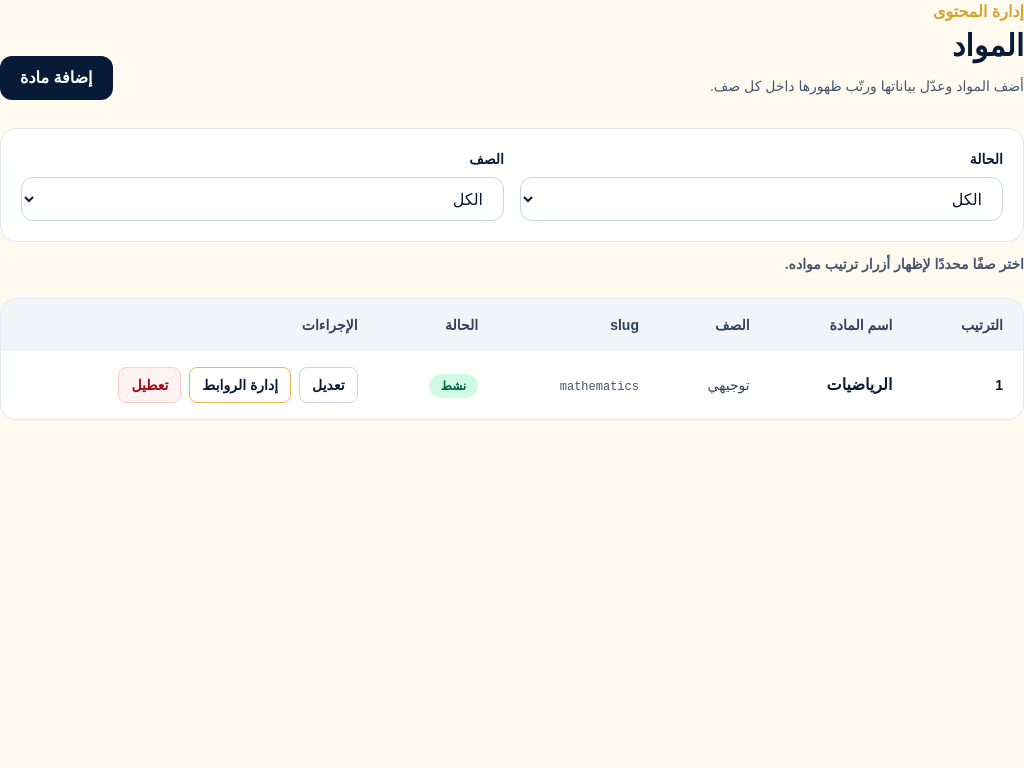
Scenario: AdminSubjectsPage › validates and completes the create flow
This screenshot has width=1024, height=768.
Click the button "إضافة مادة": (56, 78) [0,56,112,100]
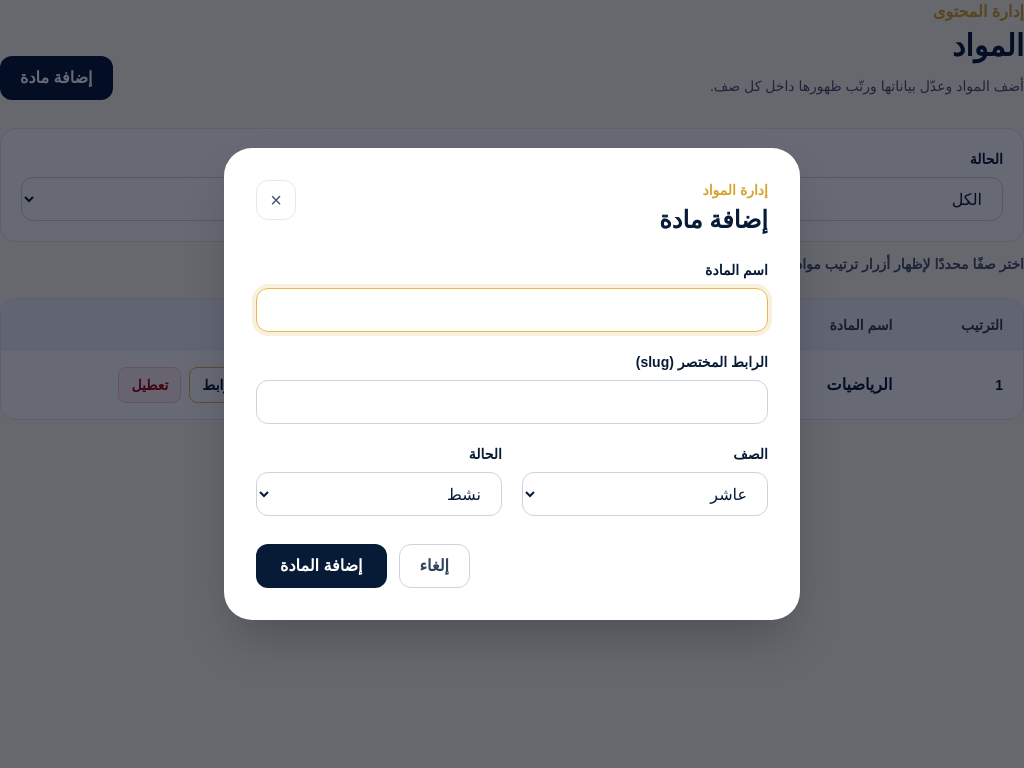
Click the button "إضافة المادة": (321, 566) [256,544,386,588]
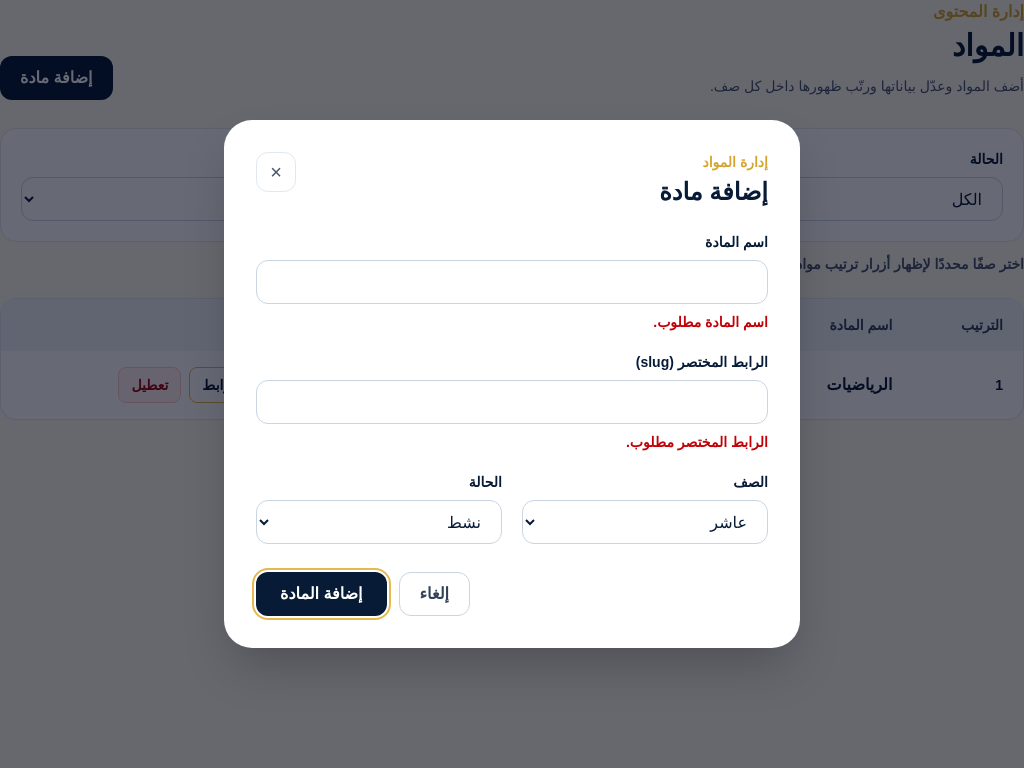
Expected: the text "اسم المادة مطلوب." is shown, [653,314,768,330]
In the field labelled "اسم المادة": (512, 282) [256,260,768,304], type "الأحياء"
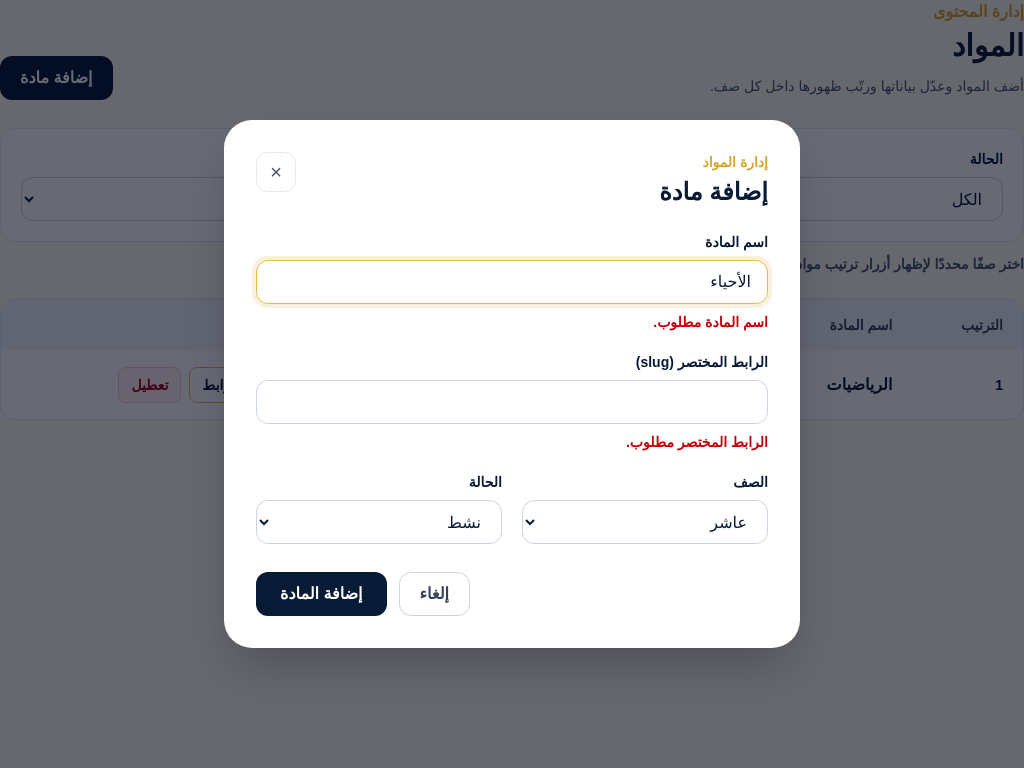
In the field labelled "الرابط المختصر (slug)": (512, 402) [256,380,768,424], type "biology"
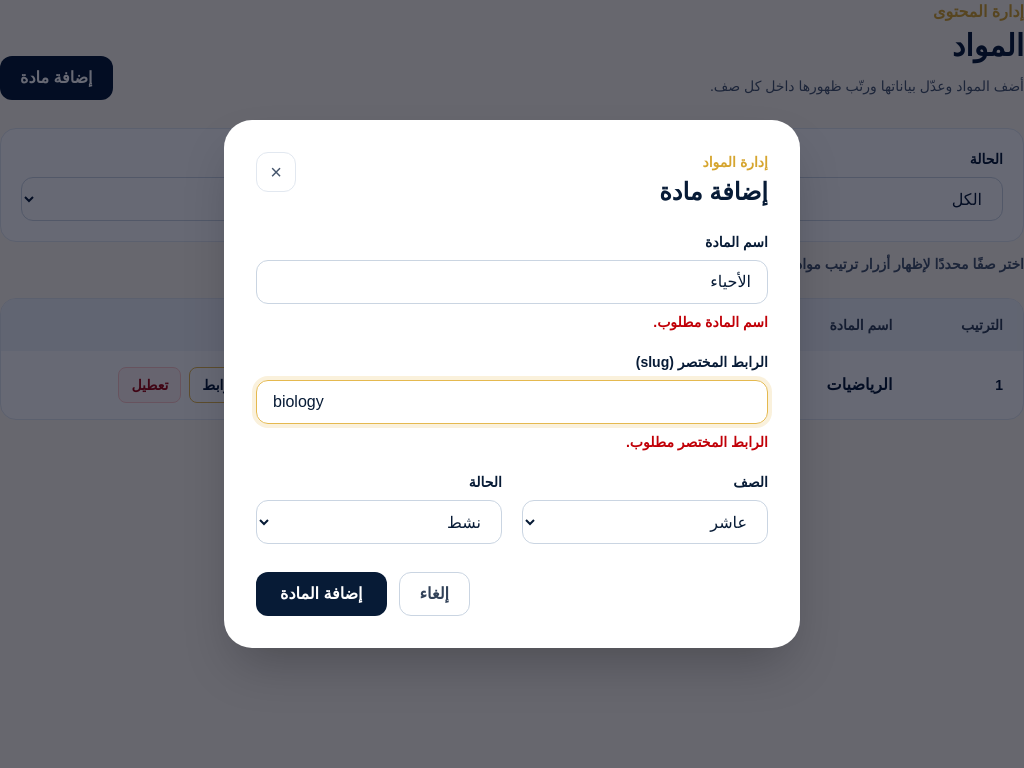
Click the button "إضافة المادة": (321, 594) [256,572,386,616]
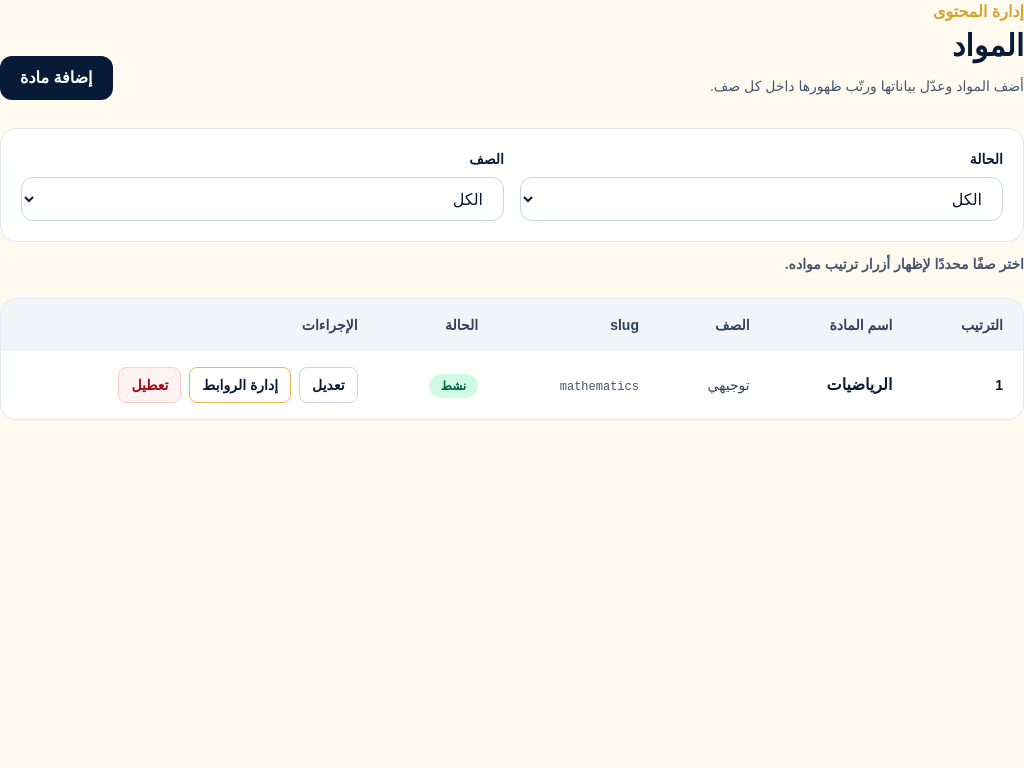
Expected: the dialog is gone
